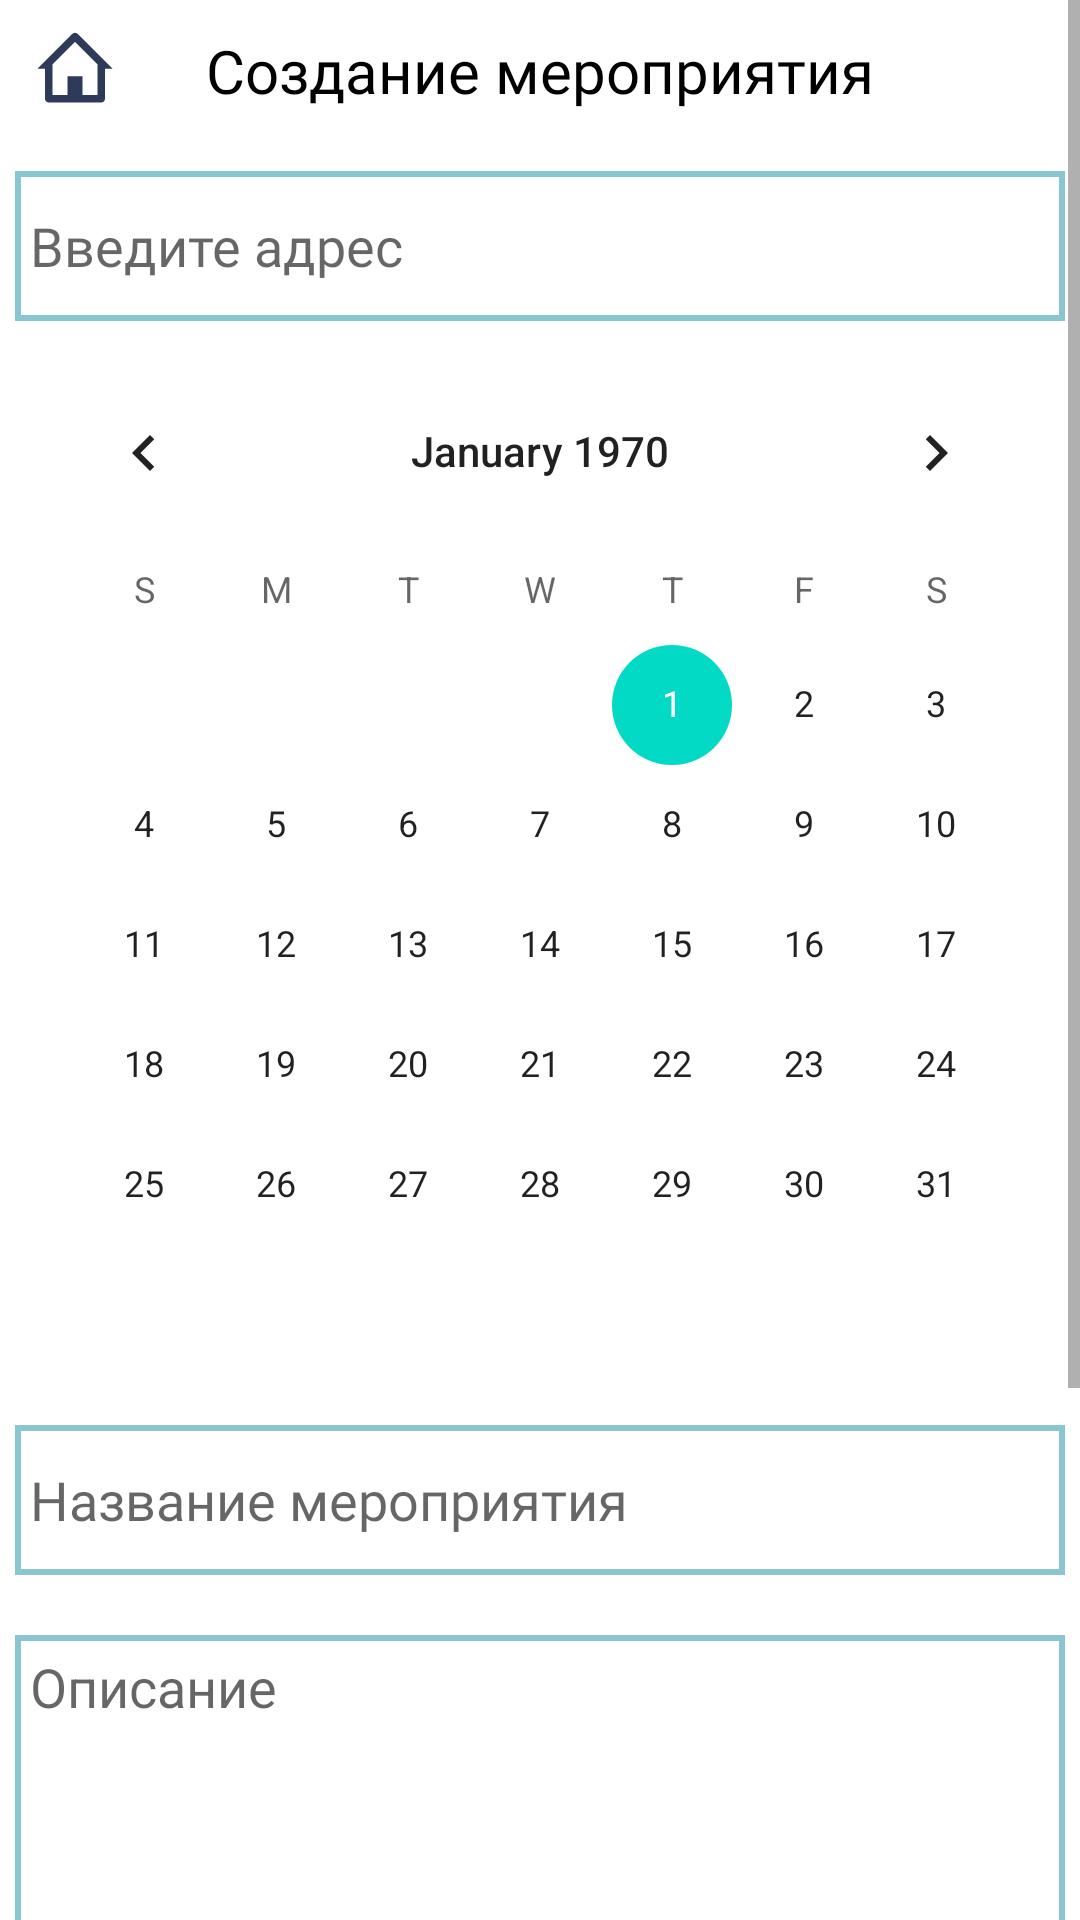

Screen size 1080×1920. Icon name, then its box in pixels as (x1, y1, x2, y2):
profile home: (38, 32, 113, 103)
